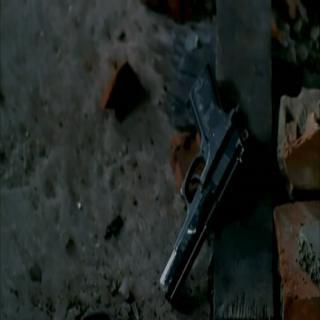gun: (152, 50, 252, 301)
